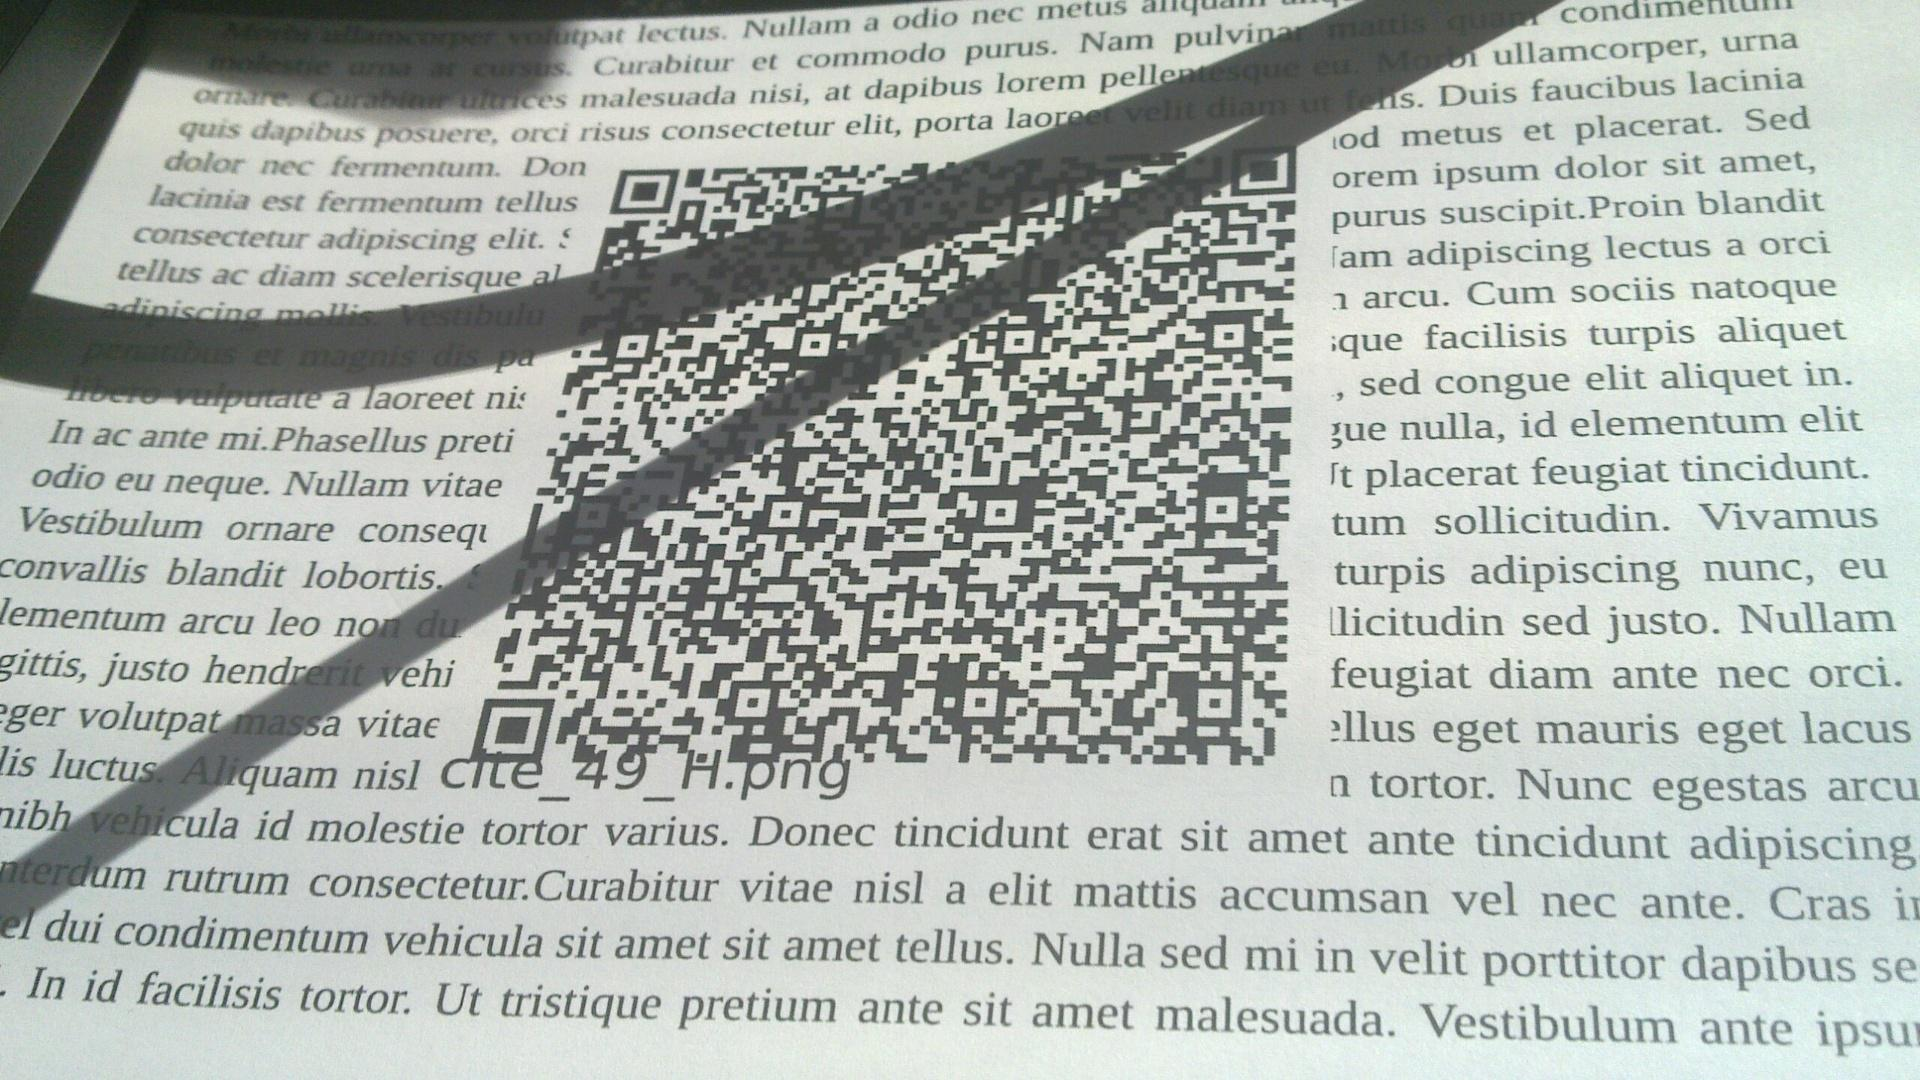Finder pattern: (472, 690, 556, 771), (1229, 138, 1304, 199), (613, 164, 676, 216)
